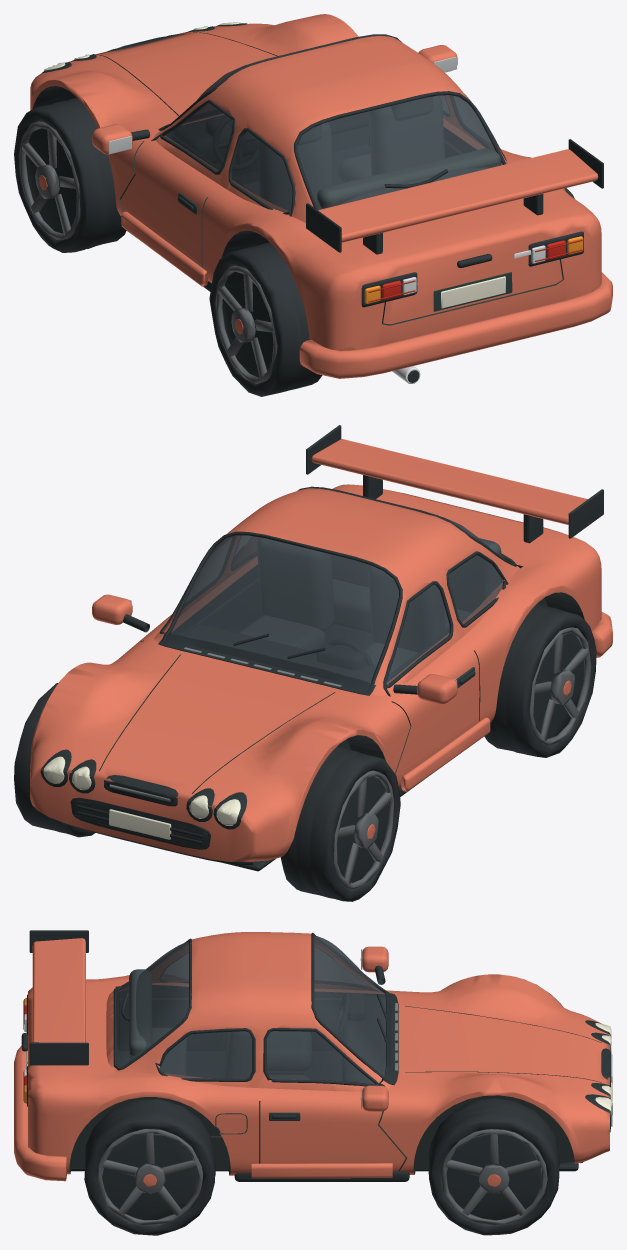
File: hibari_lod2.fbx
3 views of the same model, one above another, from view 1: azimuth 30°, elevation 25°; view 2: azimuth 150°, elevation 25°; view 3: azimuth 270°, elevation 25° (orthographic). The views are drawn at different scales.
Visible parts, largest first — view 1: Body, Wheel_FL_Mesh, Wheel_RL_Mesh; view 2: Body, Wheel_FL_Mesh, Wheel_RL_Mesh, Wheel_FR_Mesh; view 3: Body, Wheel_FR_Mesh, Wheel_RR_Mesh.
Boxes of the visible parts, x1,y1,x2,y2 form: Body: (30,14,612,383); Wheel_FL_Mesh: (14,97,126,252); Wheel_RL_Mesh: (209,242,322,396); Body: (30,425,612,871); Wheel_FL_Mesh: (280,746,400,901); Wheel_RL_Mesh: (484,603,596,757); Wheel_FR_Mesh: (14,683,95,837); Body: (14,930,612,1181); Wheel_FR_Mesh: (428,1098,559,1235); Wheel_RR_Mesh: (84,1099,215,1235).
Size of the model in its own units: 230 by 148 by 383.
